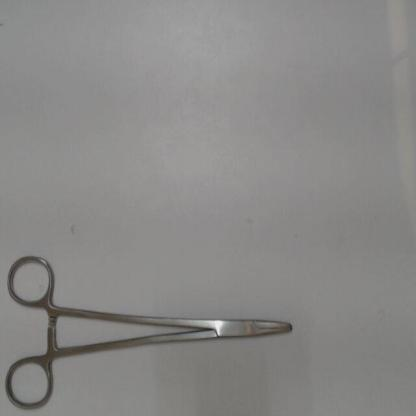8 Mayo Needle Holder: (1, 247, 301, 415)
